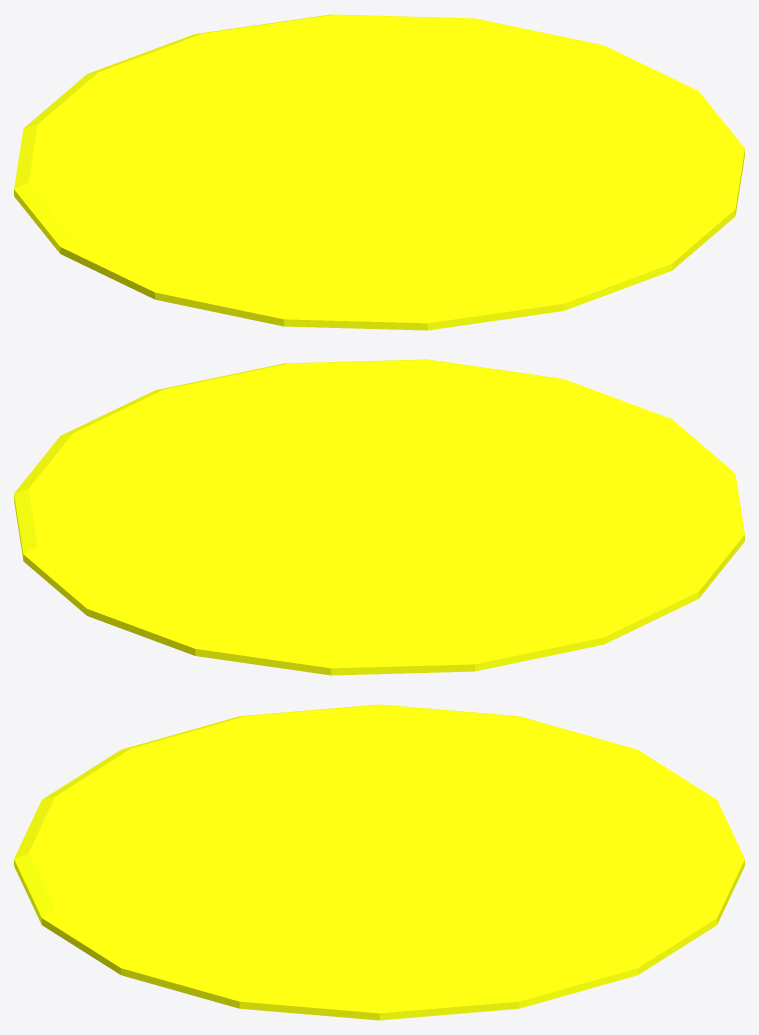
Rendered from BasePlatform.002.glb.
The picture shows the model from 3 angles, top to bottom: view 1: azimuth 30°, elevation 25°; view 2: azimuth 150°, elevation 25°; view 3: azimuth 270°, elevation 25°; orthographic projection.
Parts seen in each view (by area): view 1: BasePlatform.002; view 2: BasePlatform.002; view 3: BasePlatform.002.
Part boxes in pixels (left/top/right/bottom): BasePlatform.002: left=14, top=14, right=744, bottom=330; BasePlatform.002: left=14, top=359, right=744, bottom=675; BasePlatform.002: left=14, top=704, right=744, bottom=1020.
Size of what is drawn, in the model's own units: 4.06 by 0.0778 by 4.06.
Materials: 1 (1 with a texture image).
